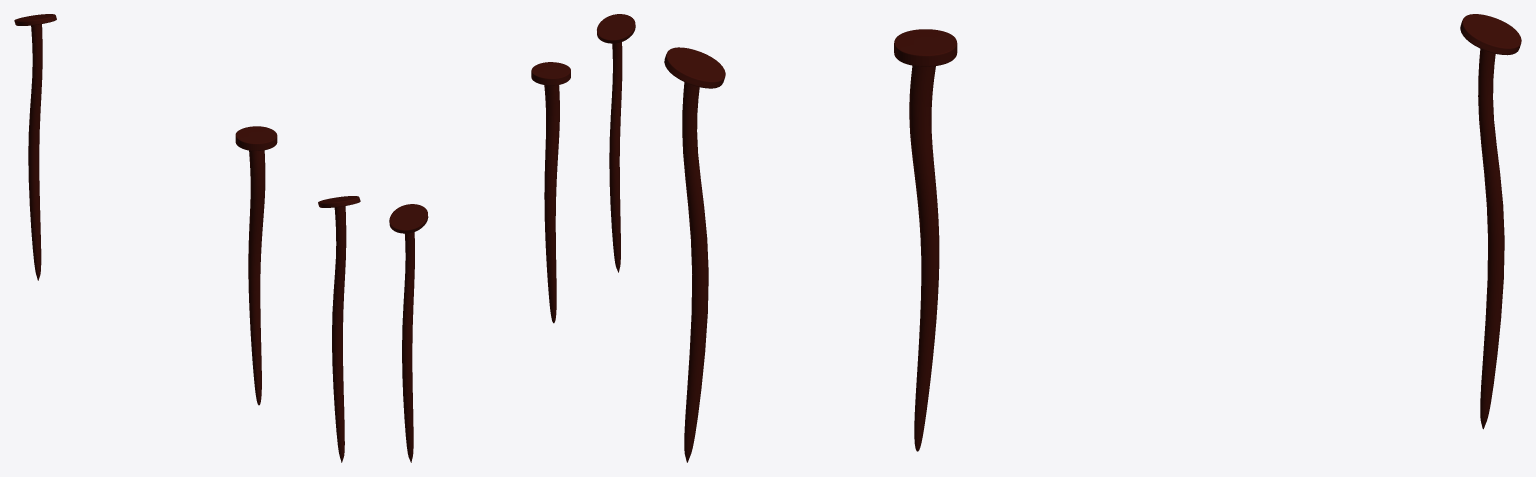
The model's file is nail.fbx.
3 renders of one model, left to right at view 1: azimuth 30°, elevation 25°; view 2: azimuth 150°, elevation 25°; view 3: azimuth 270°, elevation 25°, orthographic. The views are drawn at different scales.
Visible parts, largest first — view 1: Cube.001, Cube.002, Cube.003; view 2: Cube.001, Cube.002, Cube.003; view 3: Cube.001, Cube.003, Cube.002.
Boxes of the visible parts, <box> form: Cube.001: <box>235,126,277,405</box>; Cube.002: <box>14,14,56,280</box>; Cube.003: <box>318,196,360,462</box>; Cube.001: <box>531,62,570,323</box>; Cube.002: <box>389,204,428,462</box>; Cube.003: <box>597,14,635,272</box>; Cube.001: <box>894,29,957,451</box>; Cube.003: <box>664,47,725,462</box>; Cube.002: <box>1460,14,1521,429</box>.
Size of the model in its own units: 479 by 1586 by 2963.
